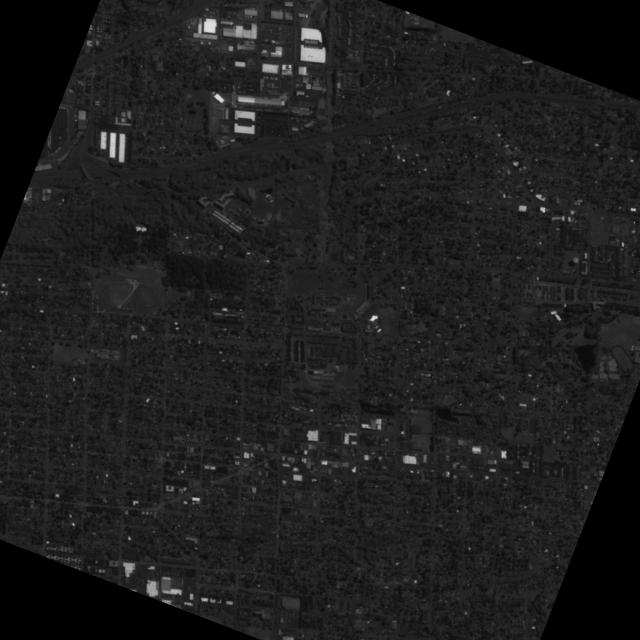storage-tank: (571, 255, 580, 263)
